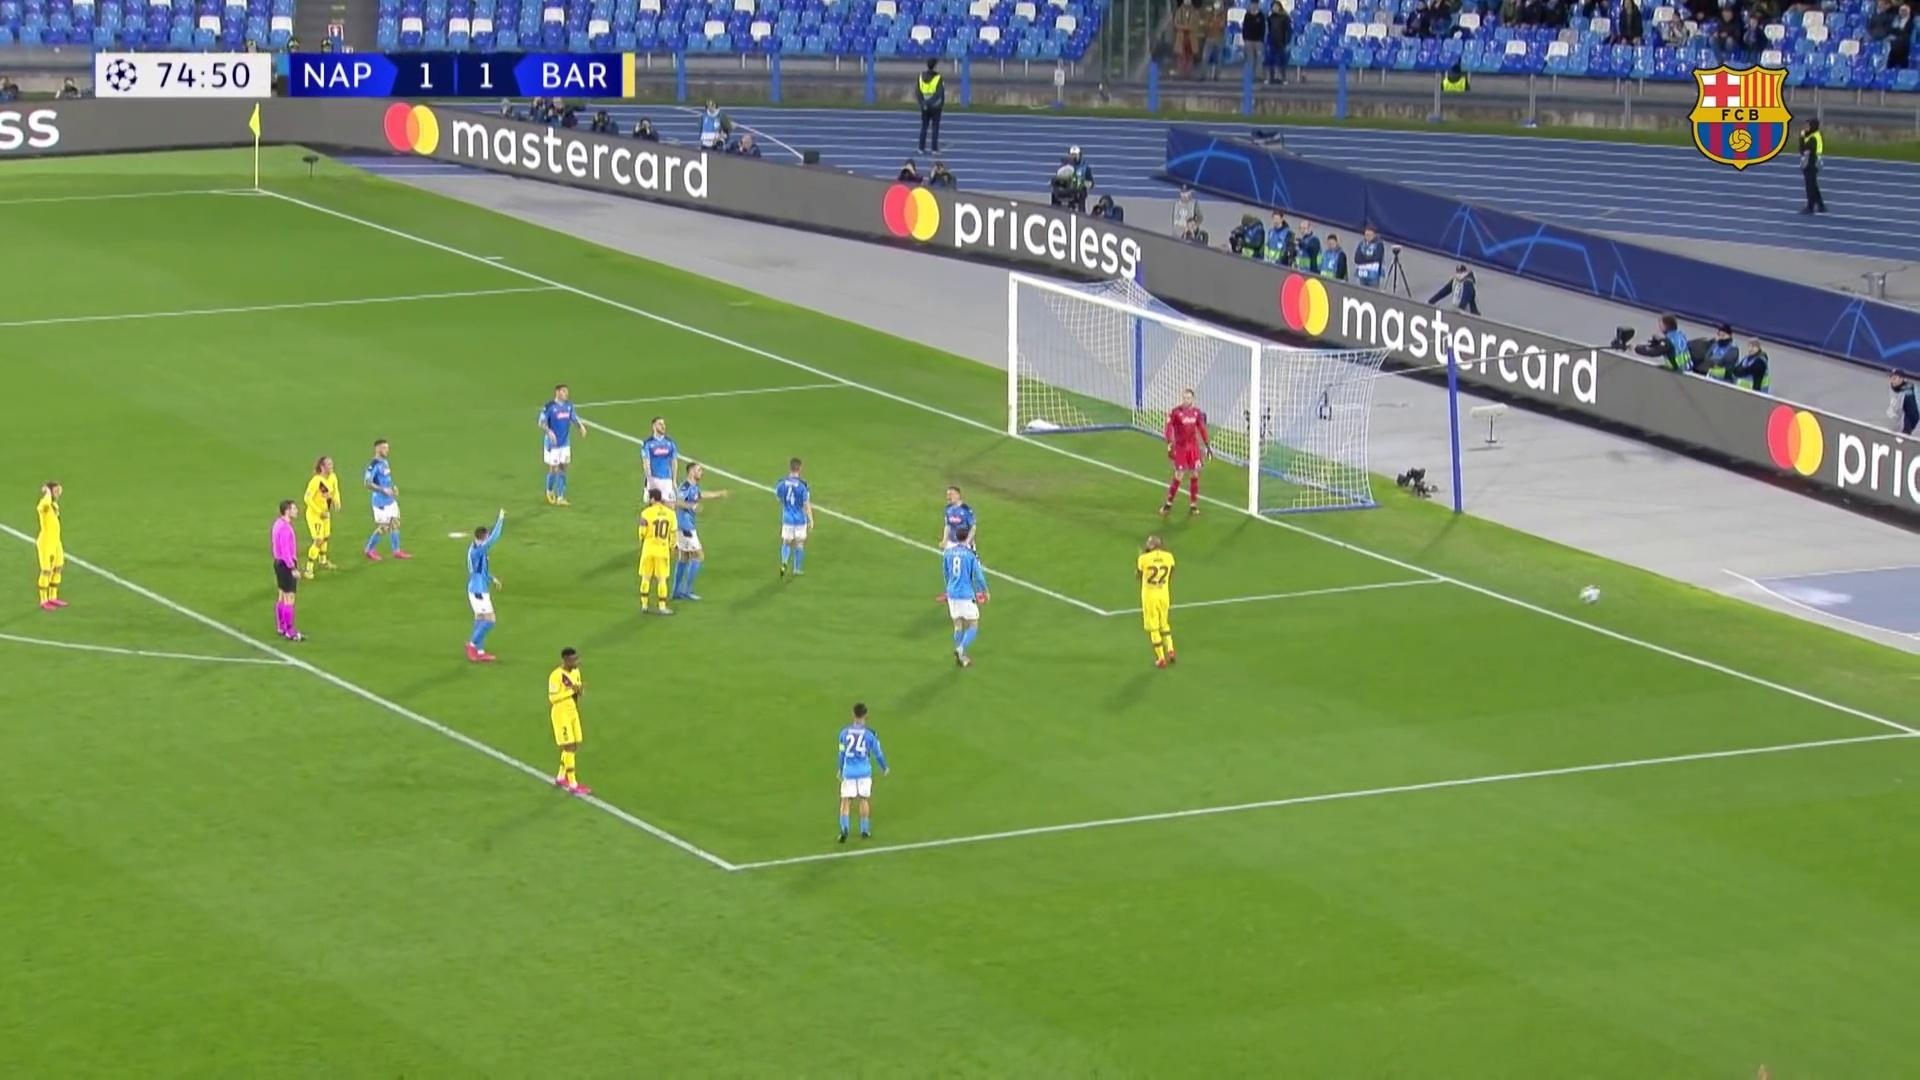ball: (1580, 583, 1602, 605)
